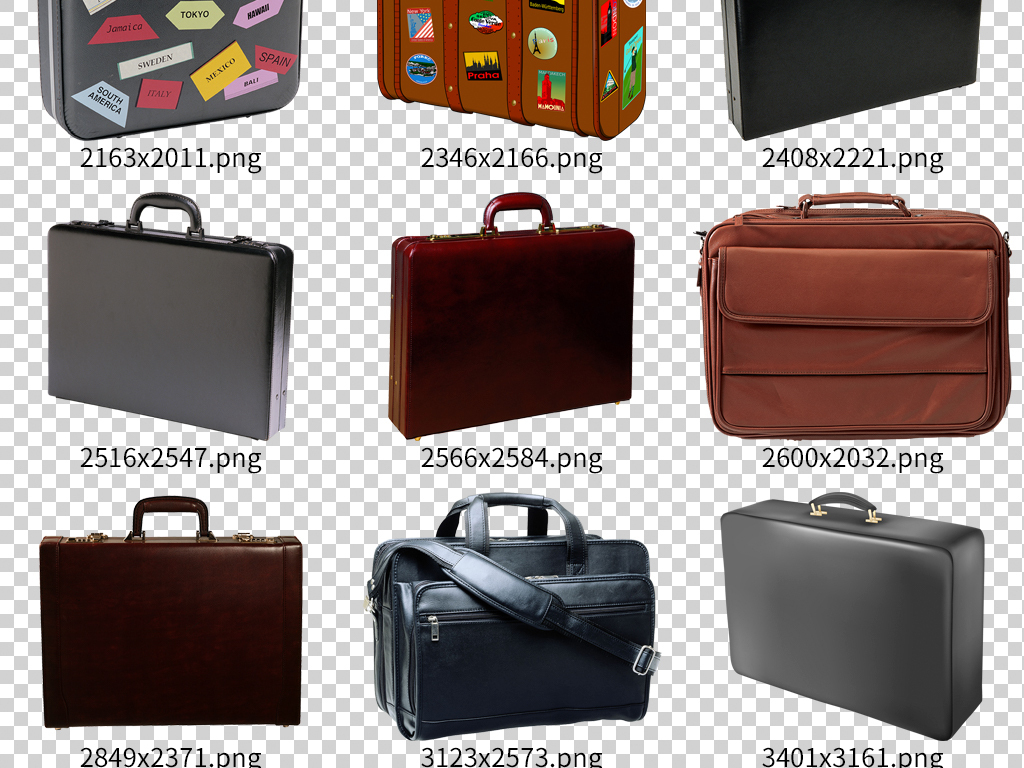shoutibox: (698, 191, 1015, 440), (369, 495, 662, 744), (719, 490, 986, 739), (38, 494, 306, 728), (49, 191, 295, 440), (388, 192, 634, 441)
